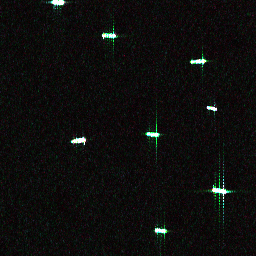ship: (69, 135, 87, 146), (188, 57, 208, 66), (209, 186, 229, 195), (144, 130, 161, 139), (152, 225, 169, 234), (204, 103, 219, 113), (100, 31, 117, 39), (49, 1, 66, 6)
